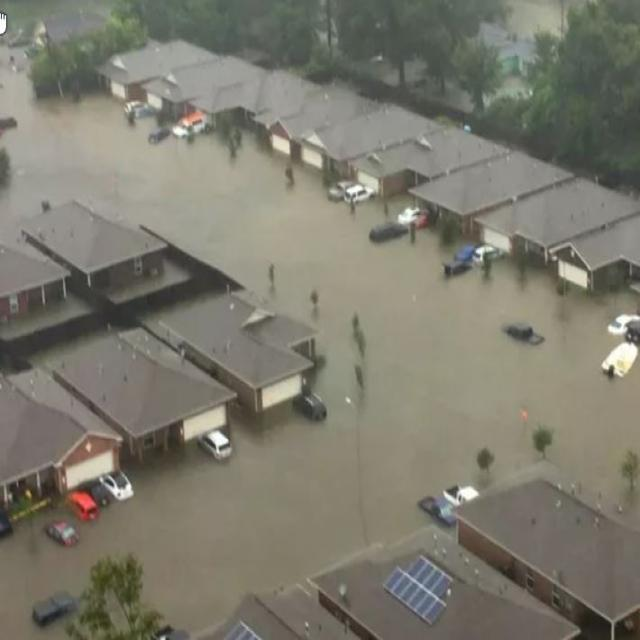flooded_areas: (1, 71, 639, 626)
